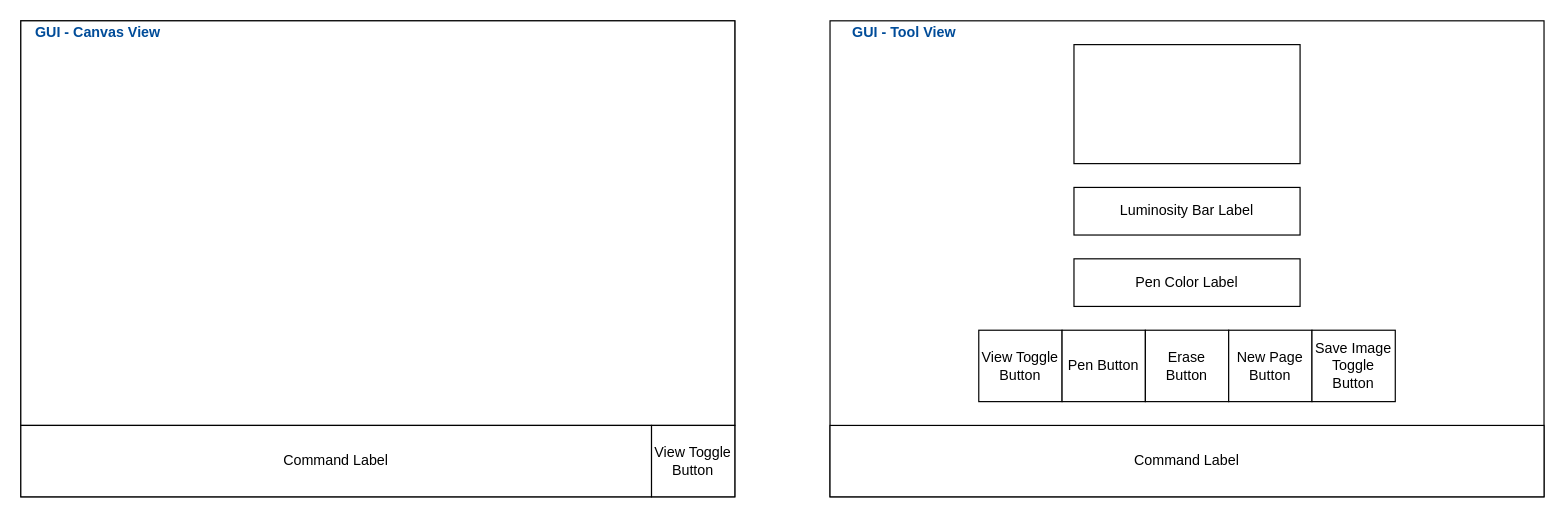
Image size: 1565x518. Some labels were removed from this diagram. Each missing label, with the box of its shape:
Canvas Label: (20, 20, 735, 425)
Color Wheel Label: (1073, 43, 1300, 164)
